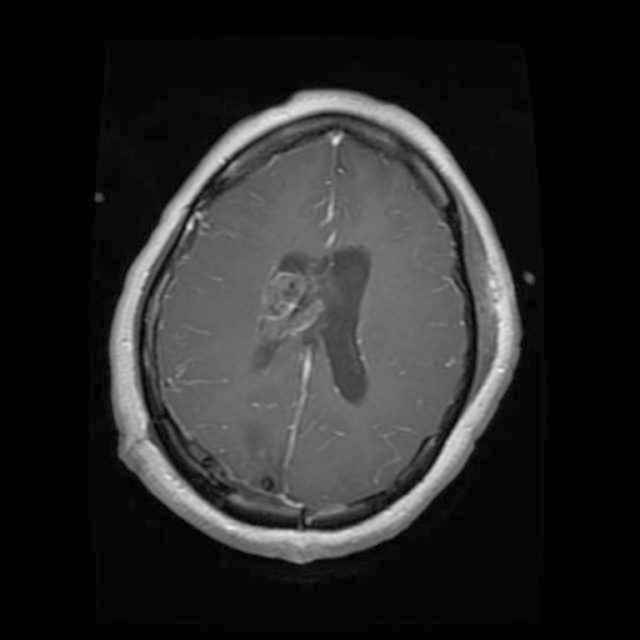pituitary tumor: (256, 264, 318, 338)
